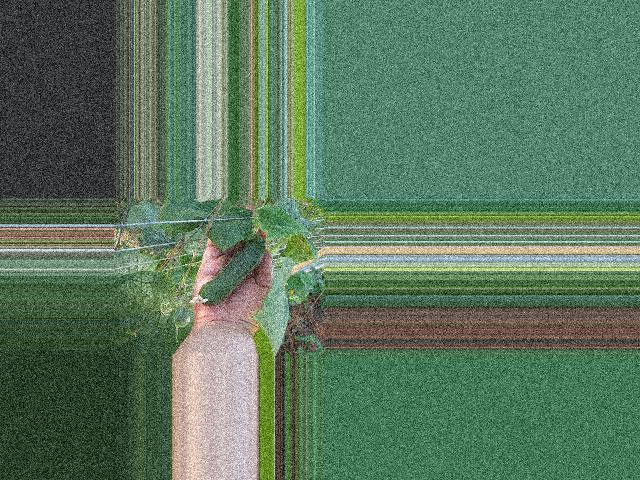cucumber: (188, 238, 264, 305)
